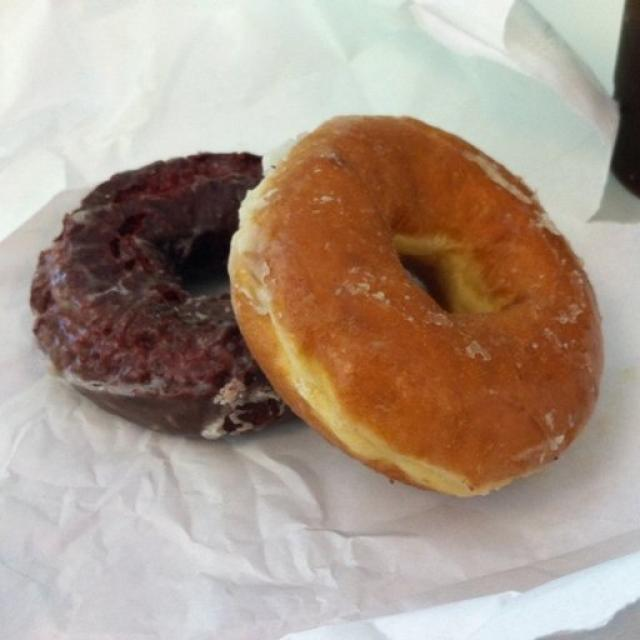Donuts: (46, 104, 625, 575)
